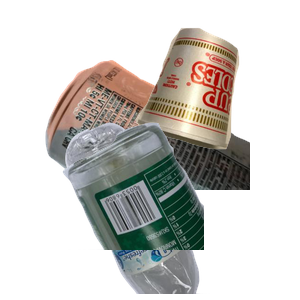glass: (60, 120, 300, 300)
metal: (43, 58, 283, 238)
plastic: (63, 120, 263, 300)
trash: (133, 25, 300, 167)
